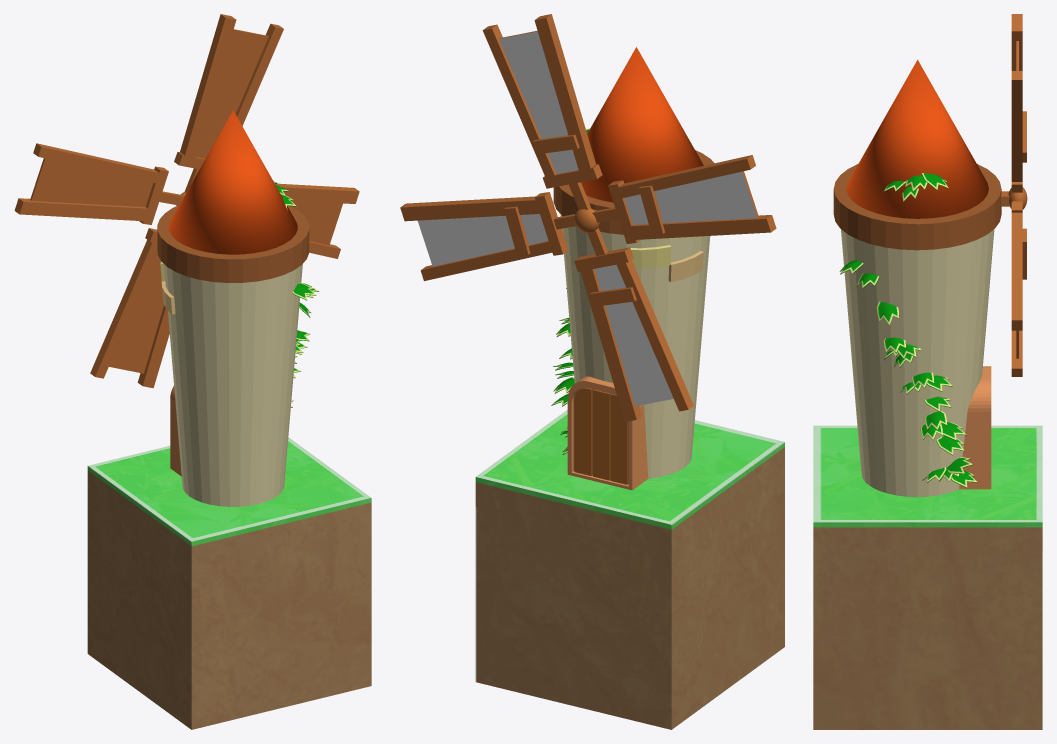
Rendered from windmill.fbx.
The picture shows the model from 3 angles, left to right: view 1: azimuth 30°, elevation 25°; view 2: azimuth 150°, elevation 25°; view 3: azimuth 270°, elevation 25°; orthographic projection. The views are drawn at different scales.
Parts seen in each view (by area): view 1: 立方体.013, 円柱, 立方体.004, 円錐, 円, 平面, 立方体; view 2: 立方体.013, 立方体.004, 円柱, 円錐, 立方体.001, 立方体, 円, 平面; view 3: 立方体.013, 円柱, 円錐, 円, 平面, 立方体.004, 立方体.
Part boxes in pixels (x1,y1,x2,y2): 立方体.013: (87, 437, 371, 729); 円柱: (160, 261, 302, 506); 立方体.004: (14, 14, 359, 388); 円錐: (168, 110, 297, 254); 円: (157, 205, 309, 282); 平面: (273, 181, 318, 407); 立方体: (170, 386, 181, 476); 立方体.013: (475, 410, 784, 729); 立方体.004: (400, 14, 776, 421); 円柱: (560, 214, 710, 478); 円錐: (581, 47, 703, 202); 立方体.001: (574, 388, 627, 484); 立方体: (567, 376, 648, 490); 円: (553, 150, 714, 234); 平面: (551, 128, 589, 454); 立方体.013: (813, 425, 1042, 729); 円柱: (841, 229, 994, 497); 円錐: (846, 59, 988, 218); 円: (833, 164, 1001, 250); 平面: (839, 173, 977, 487); 立方体.004: (1011, 14, 1026, 376); 立方体: (959, 366, 991, 489).
Bounding box in the file's own units: 378 × 200 × 655.
Materials: 16 (1 with a texture image).
